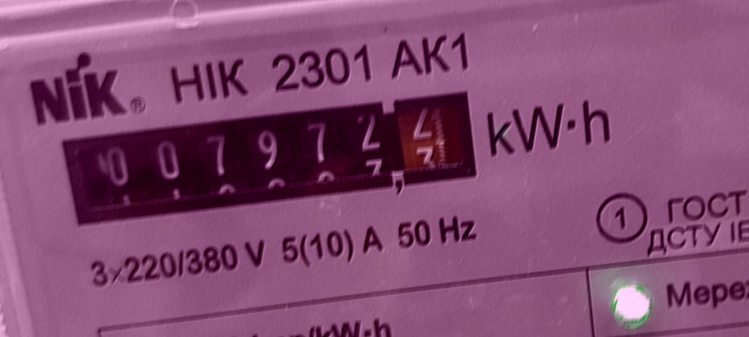0: (102, 144, 132, 188), (153, 137, 182, 182)
2: (355, 112, 382, 153), (406, 107, 433, 143)
3: (412, 144, 437, 171)
7: (303, 119, 333, 167), (203, 131, 232, 179)
9: (253, 126, 280, 172)
screen: (43, 78, 495, 242)
